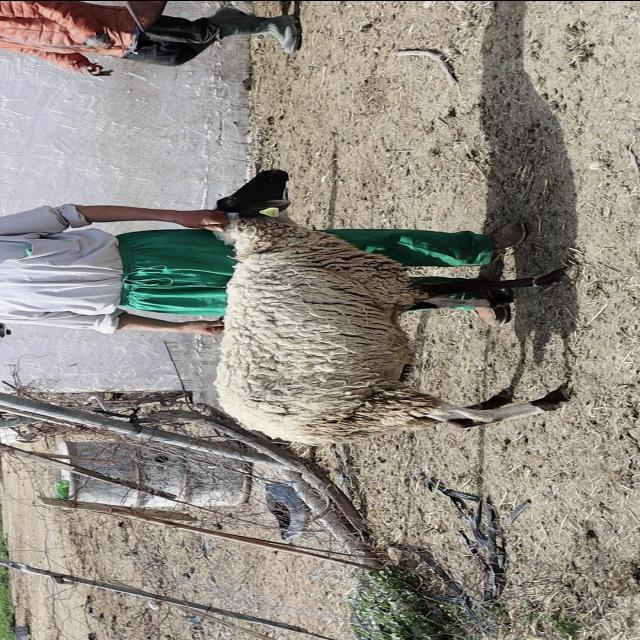Score_2: (216, 168, 569, 444)
